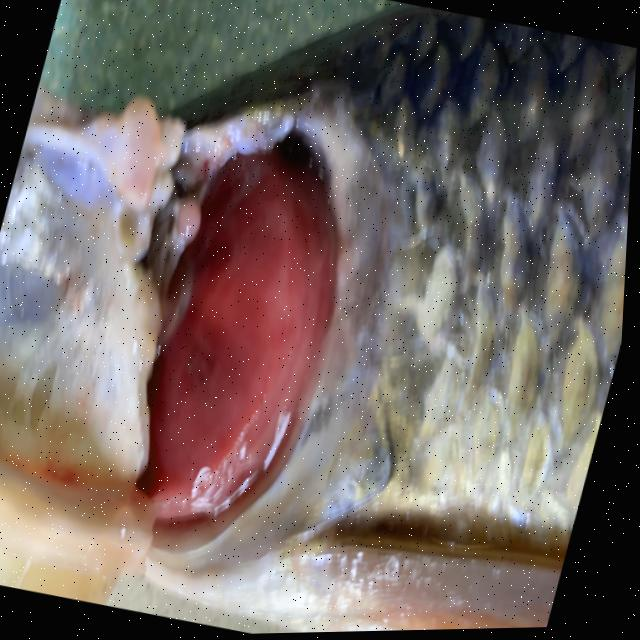Fresh: (41, 13, 473, 639)
